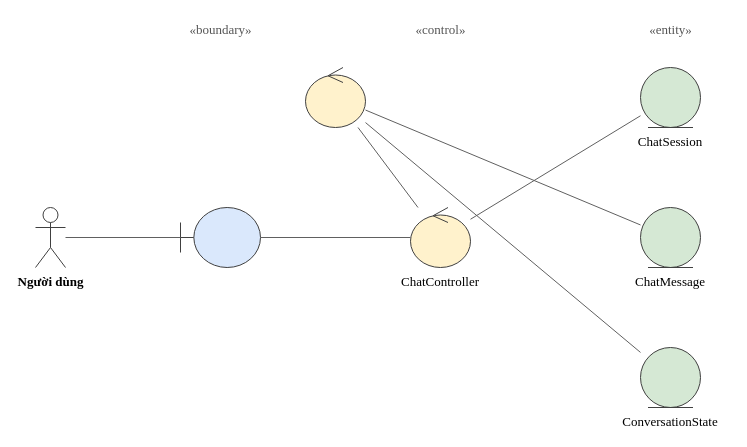
Some shapes in this 747 by 447 pixel diagram are drawn without their labels. Each missing label, with the centre of its shape:
"ConversationList" belongs at [220,237].
"SessionMemory" belongs at [335,97].
